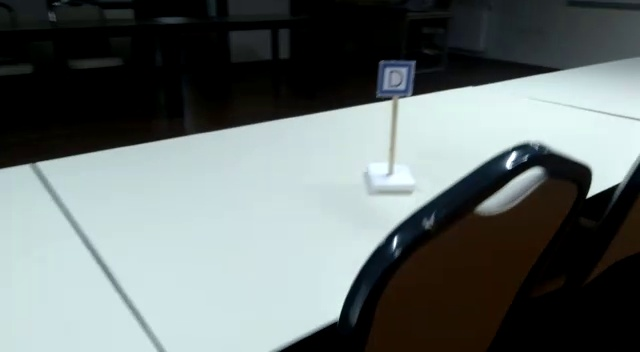durak: (378, 62, 413, 97)
